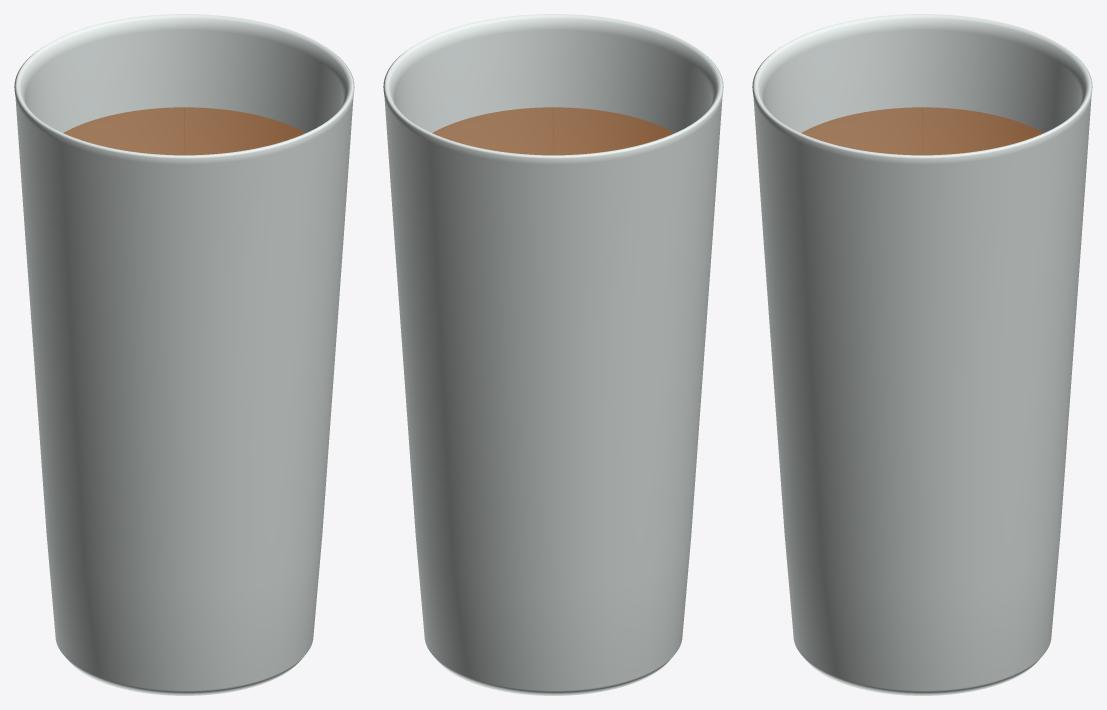
The model's file is mote-huesillo.glb.
The picture shows the model from 3 angles, left to right: view 1: azimuth 30°, elevation 25°; view 2: azimuth 150°, elevation 25°; view 3: azimuth 270°, elevation 25°; orthographic projection.
Parts seen in each view (by area): view 1: Vaso, Jugo; view 2: Vaso, Jugo; view 3: Vaso, Jugo.
Boxes of the visible parts, bbox=[...] form: Vaso: bbox=[14, 14, 354, 695]; Jugo: bbox=[63, 107, 305, 155]; Vaso: bbox=[383, 14, 723, 695]; Jugo: bbox=[432, 107, 674, 155]; Vaso: bbox=[752, 14, 1092, 695]; Jugo: bbox=[801, 107, 1043, 155].
Size of the model in its own units: 0.0828 by 0.1503 by 0.0828.
